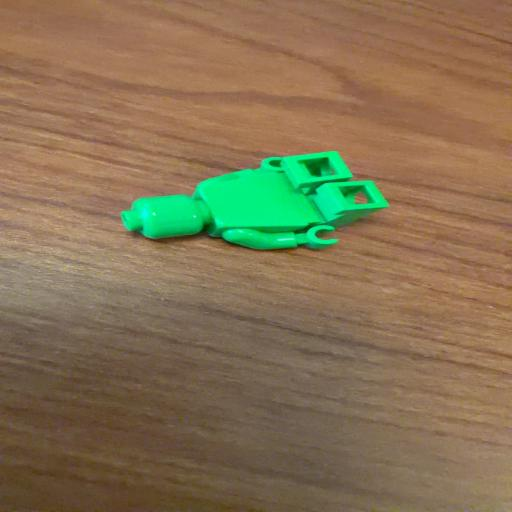UnoQ-minifig-detector: (121, 151, 388, 250)
